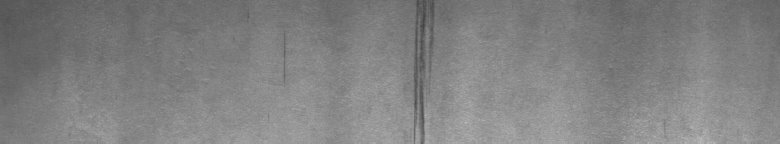hd: (410, 4, 436, 136)
